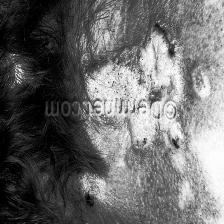Non-Cancerous Skin Condition: (80, 23, 210, 163)
